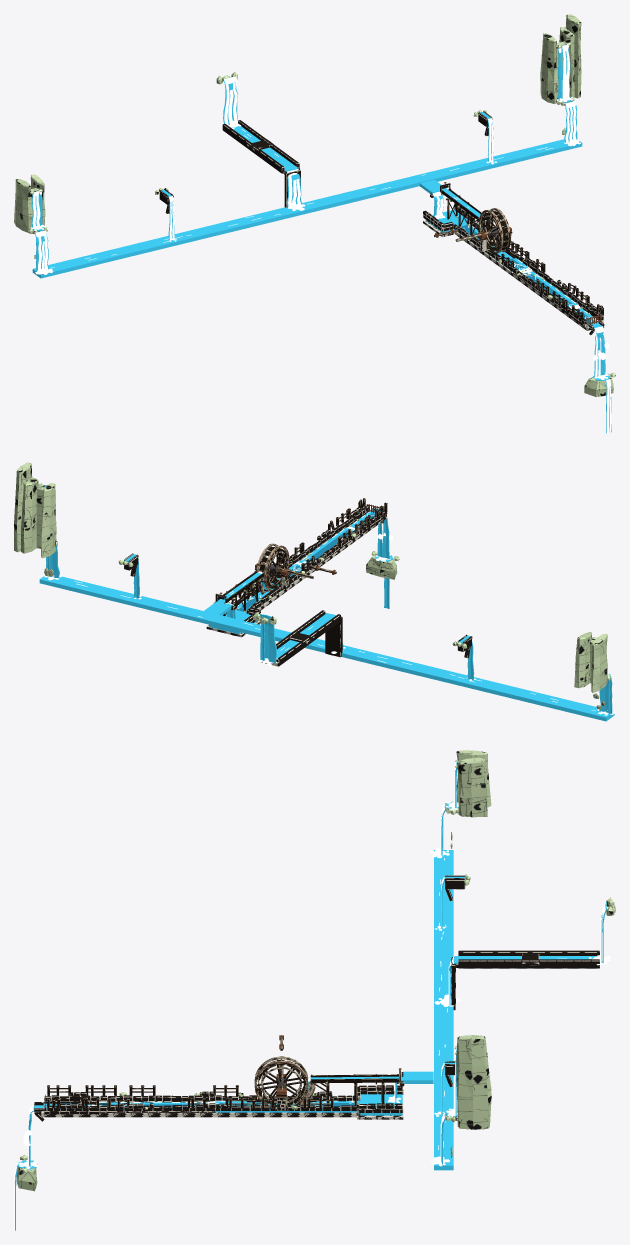
Rendered from LOBBY_05_WATER_SYSTEM_87a2cf.fbx.
3 views of the same model, one above another, from view 1: azimuth 30°, elevation 25°; view 2: azimuth 150°, elevation 25°; view 3: azimuth 270°, elevation 25° (orthographic). The views are drawn at different scales.
Parts seen in each view (by area): view 1: WATER_Waterfalls__Water, WATER_Waterfalls__Cliff_Rock, WATER_Waterfalls__Water_Fall, WATER_Pool_River__Water, WATER_Waterfalls__Stone_Light, WATER_Waterfalls__Cliff_Rock_Dark, WATER_Pool_River__Stone_Light, WATER_Waterfalls__Foam_g15_16, WATER_River_Fences__Wood_Dark_C, WATER_Waterwheel__Wood_Dark_B, WATER_Pool_River__Stone_Dark_B, WATER_Pool_River__Stone_Dark_C; view 2: WATER_Waterfalls__Water, WATER_Waterfalls__Cliff_Rock, WATER_Pool_River__Water, WATER_Waterfalls__Cliff_Rock_Dark, WATER_Waterfalls__Stone_Light, WATER_Waterfalls__Cliff_Rock_B, WATER_River_Fences__Wood_Dark_C, WATER_Pool_River__Stone_Light, WATER_Waterwheel__Wood_Dark_B, WATER_Waterfalls__Stone_Dark, WATER_Pool_River__Stone_Dark_B, WATER_Pool_River__Stone_Dark_C (+5 smaller); view 3: WATER_Waterfalls__Water, WATER_Waterfalls__Cliff_Rock, WATER_Waterfalls__Stone_Light, WATER_Pool_River__Stone_Light, WATER_Pool_River__Stone_Dark_C, WATER_Pool_River__Water, WATER_Waterfalls__Cliff_Rock_B, WATER_Pool_River__Stone_Dark_B, WATER_River_Fences__Wood_Dark_C, WATER_Pool_River__Stone_Light_B, WATER_Waterwheel__Wood_Dark_B, WATER_Pool_River__Wood_Plank_C (+3 smaller).
Boxes of the visible parts, bbox=[...] form: WATER_Waterfalls__Water: bbox=[31, 44, 582, 278]; WATER_Waterfalls__Cliff_Rock: bbox=[29, 14, 581, 231]; WATER_Waterfalls__Water_Fall: bbox=[32, 50, 576, 270]; WATER_Pool_River__Water: bbox=[425, 190, 611, 433]; WATER_Waterfalls__Stone_Light: bbox=[159, 111, 492, 205]; WATER_Waterfalls__Cliff_Rock_Dark: bbox=[14, 41, 570, 258]; WATER_Pool_River__Stone_Light: bbox=[427, 204, 604, 328]; WATER_Waterfalls__Foam_g15_16: bbox=[31, 76, 298, 274]; WATER_River_Fences__Wood_Dark_C: bbox=[492, 227, 603, 320]; WATER_Waterwheel__Wood_Dark_B: bbox=[434, 208, 510, 253]; WATER_Pool_River__Stone_Dark_B: bbox=[423, 207, 604, 335]; WATER_Pool_River__Stone_Dark_C: bbox=[426, 217, 590, 330]; WATER_Waterfalls__Water: bbox=[39, 485, 614, 721]; WATER_Waterfalls__Cliff_Rock: bbox=[14, 462, 466, 648]; WATER_Pool_River__Water: bbox=[209, 509, 392, 634]; WATER_Waterfalls__Cliff_Rock_Dark: bbox=[36, 486, 607, 709]; WATER_Waterfalls__Stone_Light: bbox=[124, 553, 472, 666]; WATER_Waterfalls__Cliff_Rock_B: bbox=[574, 632, 610, 688]; WATER_River_Fences__Wood_Dark_C: bbox=[238, 498, 387, 597]; WATER_Pool_River__Stone_Light: bbox=[227, 507, 380, 622]; WATER_Waterwheel__Wood_Dark_B: bbox=[256, 543, 336, 591]; WATER_Waterfalls__Stone_Dark: bbox=[130, 556, 472, 666]; WATER_Pool_River__Stone_Dark_B: bbox=[206, 505, 387, 637]; WATER_Pool_River__Stone_Dark_C: bbox=[250, 516, 386, 622]; WATER_Waterfalls__Water: bbox=[395, 762, 606, 1170]; WATER_Waterfalls__Cliff_Rock: bbox=[446, 760, 614, 1129]; WATER_Waterfalls__Stone_Light: bbox=[399, 875, 599, 1086]; WATER_Pool_River__Stone_Light: bbox=[34, 1085, 402, 1114]; WATER_Pool_River__Stone_Dark_C: bbox=[41, 1084, 394, 1117]; WATER_Pool_River__Water: bbox=[15, 1076, 402, 1230]; WATER_Waterfalls__Cliff_Rock_B: bbox=[446, 757, 487, 1049]; WATER_Pool_River__Stone_Dark_B: bbox=[34, 1086, 403, 1121]; WATER_River_Fences__Wood_Dark_C: bbox=[47, 1085, 333, 1108]; WATER_Pool_River__Stone_Light_B: bbox=[44, 1085, 402, 1114]; WATER_Waterwheel__Wood_Dark_B: bbox=[254, 1035, 308, 1105]; WATER_Pool_River__Wood_Plank_C: bbox=[293, 1074, 399, 1105].
Size of the model in its own units: 266 by 108 by 208.
10 materials, 4 textured.
